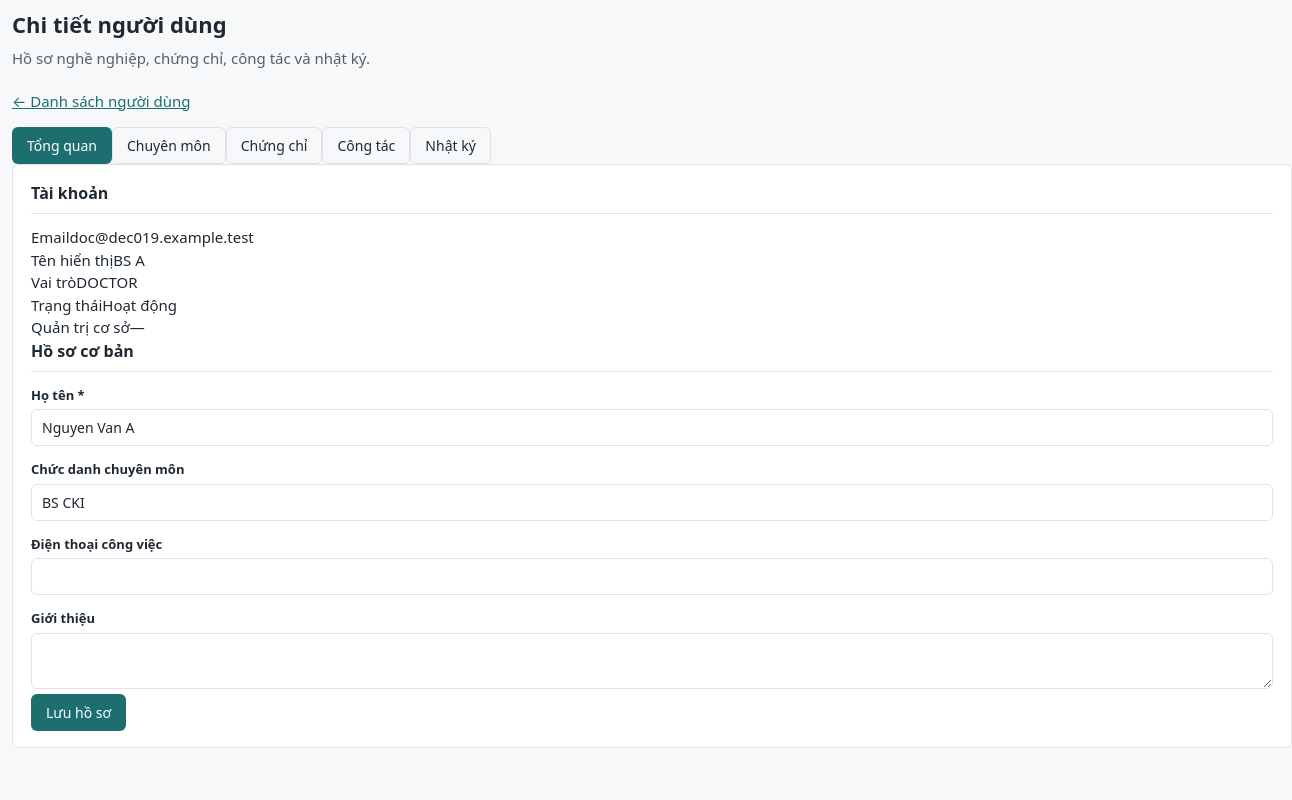
UserDetailPage › prevents duplicate submit while a mutation is in flight
Click the button "Lưu hồ sơ".
click(79, 712)  # box x1=31 y1=694 x2=126 y2=731
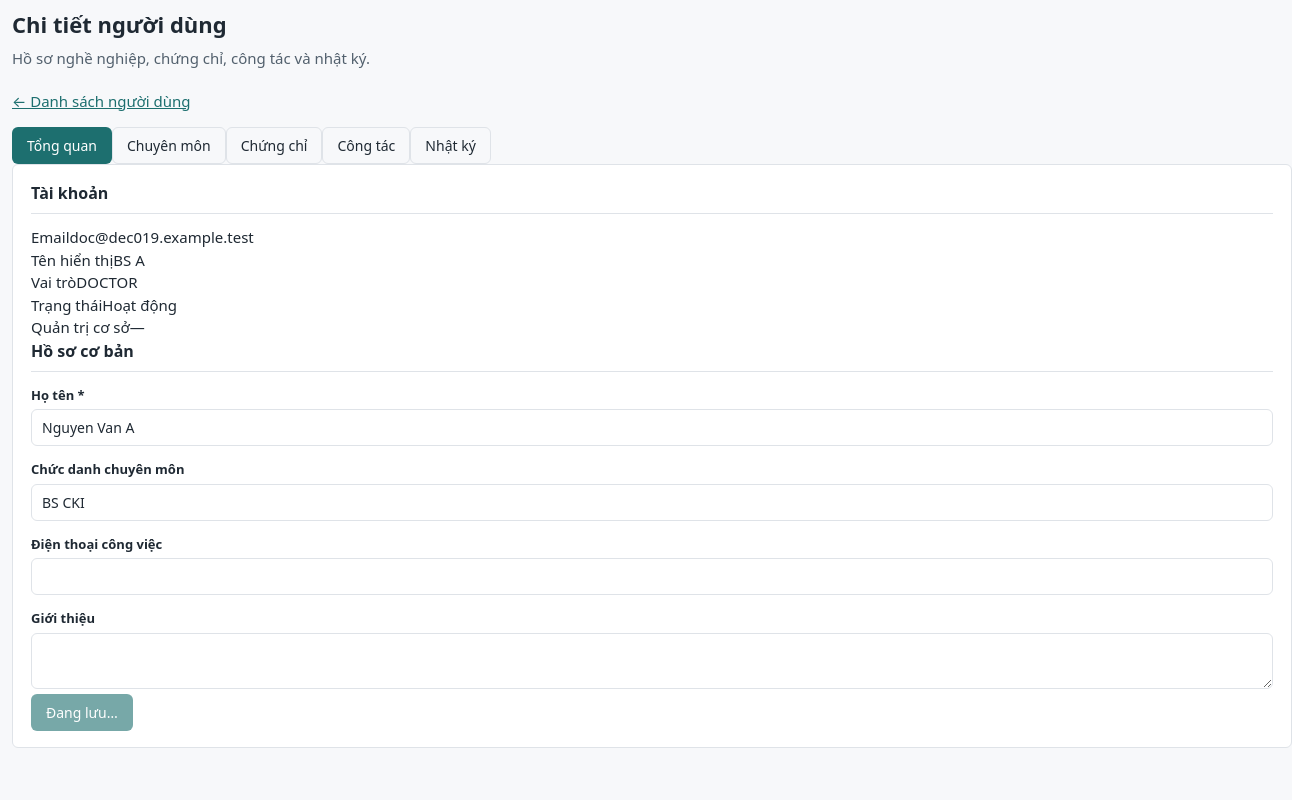
Expected: the button "Đang lưu…" is disabled, x1=31 y1=694 x2=133 y2=731
